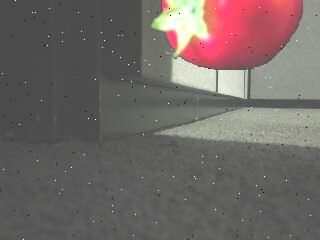Tomato: (151, 0, 301, 71)
